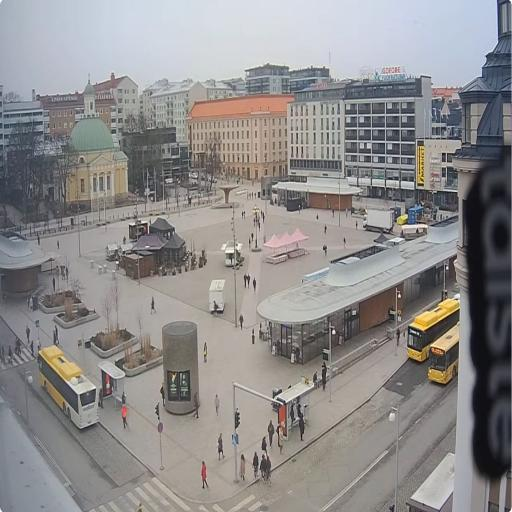bus: (36, 339, 102, 437), (408, 300, 460, 362), (428, 324, 460, 386)
car: (208, 174, 218, 184), (200, 171, 208, 182), (191, 172, 198, 179)
delivery: (361, 208, 395, 235)
